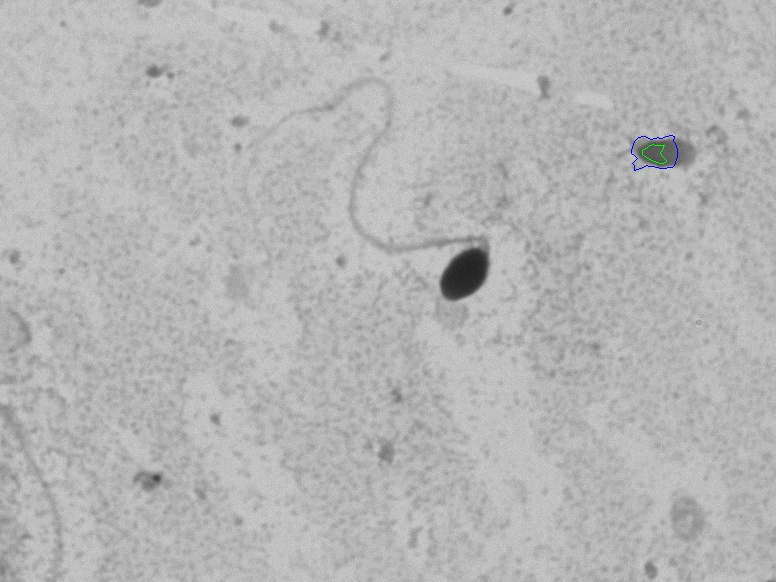Abnormal: (224, 46, 522, 318)
